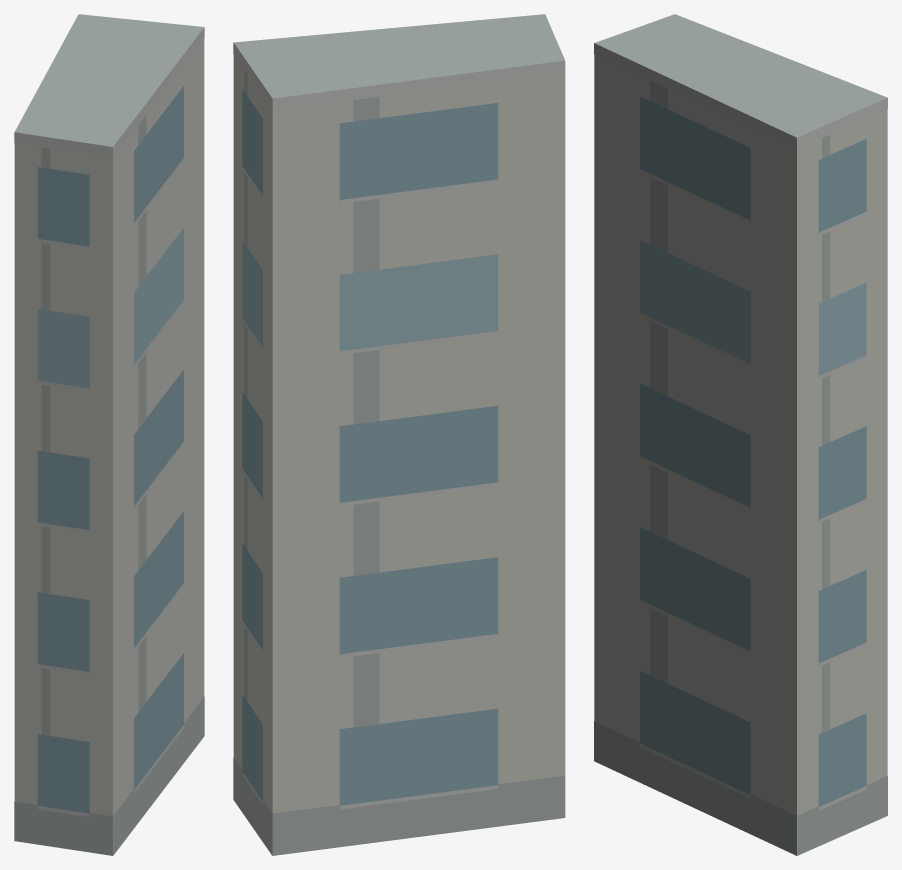
Rendered from survey-upis-32783493.glb.
The picture shows the model from 3 angles, left to right: view 1: azimuth 30°, elevation 25°; view 2: azimuth 150°, elevation 25°; view 3: azimuth 270°, elevation 25°; orthographic projection. The views are drawn at different scales.
Parts seen in each view (by area): view 1: survey-upis-32783493.tmp; view 2: survey-upis-32783493.tmp; view 3: survey-upis-32783493.tmp.
Part boxes in pixels (x1,y1,x2,y2): survey-upis-32783493.tmp: (14,14,204,855); survey-upis-32783493.tmp: (233,14,565,855); survey-upis-32783493.tmp: (594,14,887,855).
Bounding box in the file's own units: 5.64 × 15.25 × 5.66.
